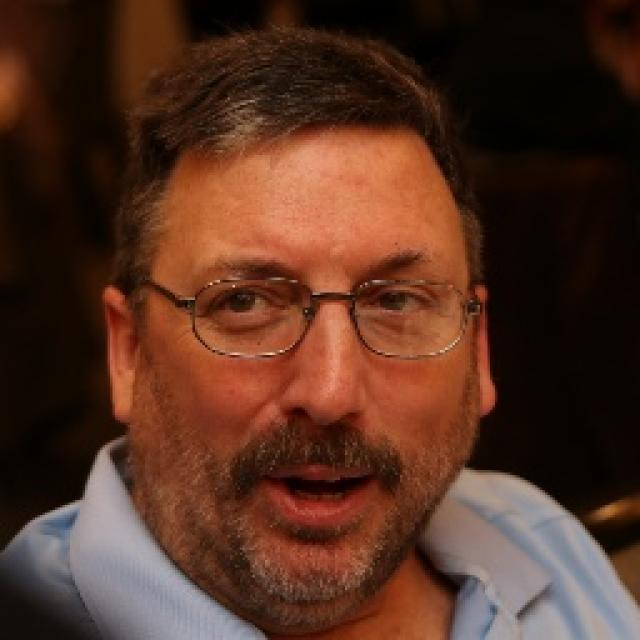earlobe: (100, 287, 142, 426), (471, 286, 498, 420)
